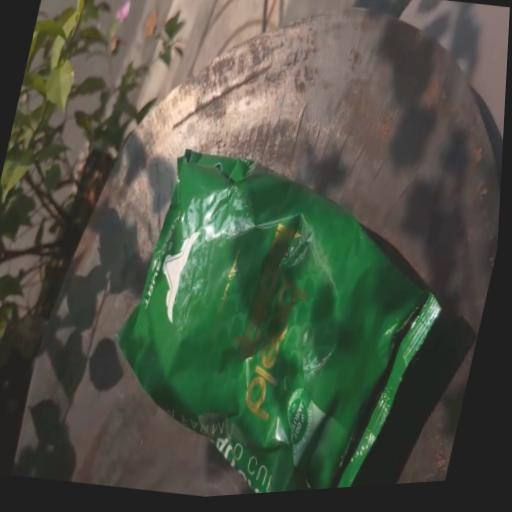cafe_xay: (119, 150, 440, 493)
